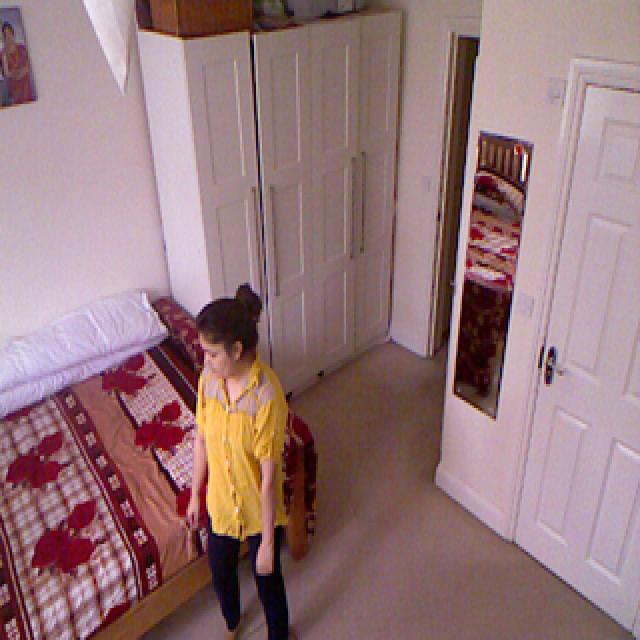standing: (184, 286, 289, 640)
